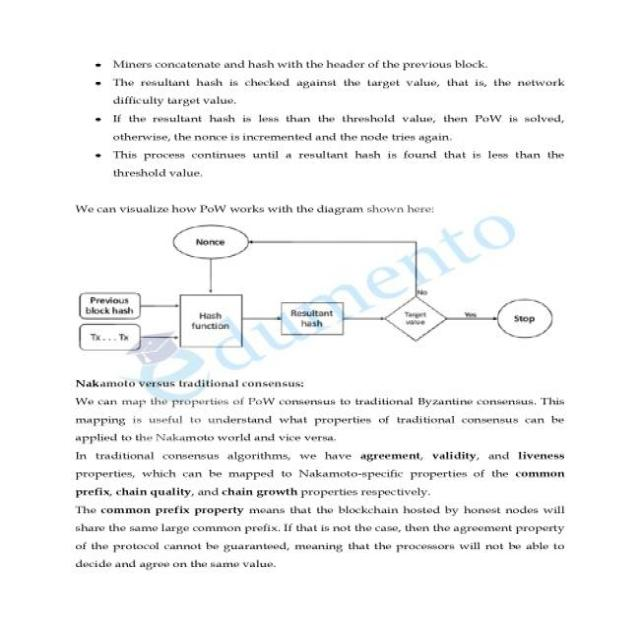Figure Detection - v3 Dataset Version2: (59, 218, 566, 364)
